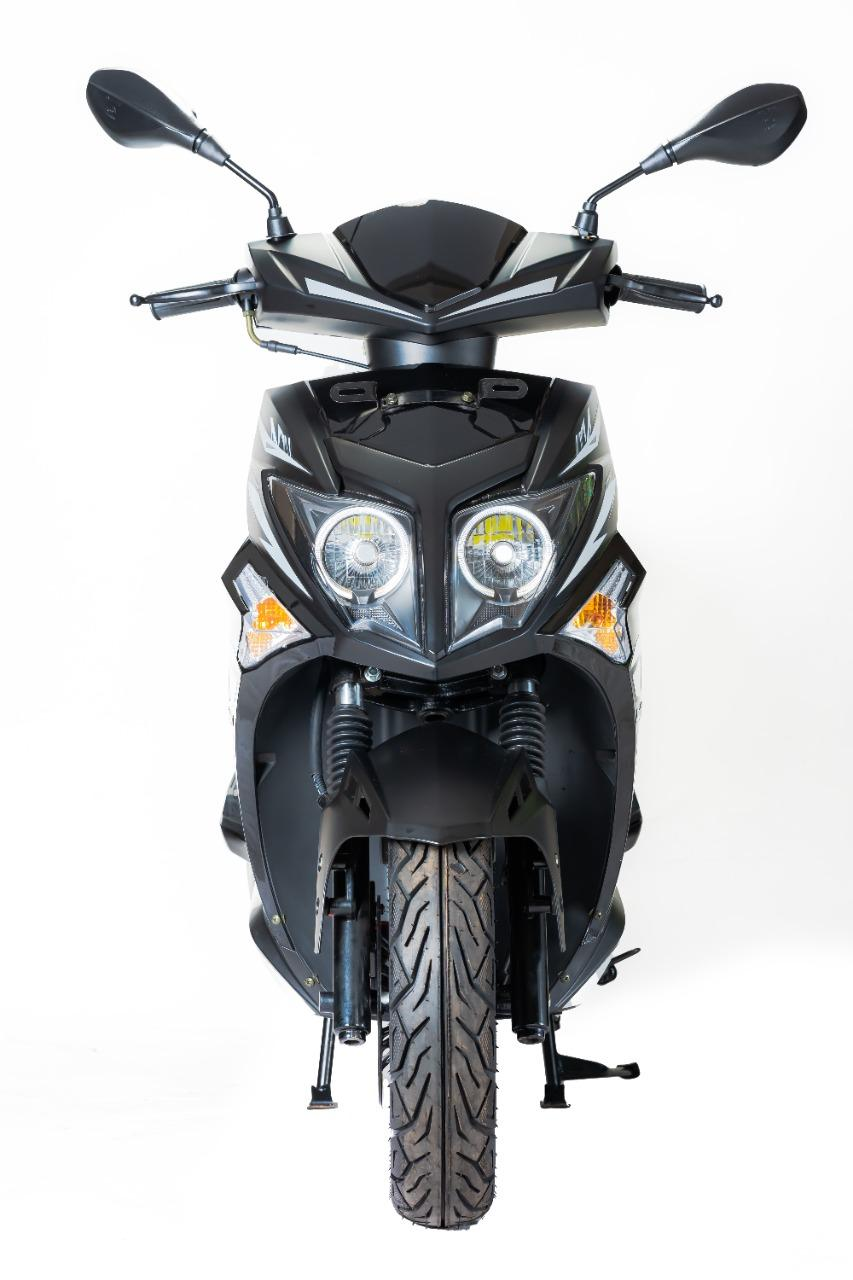motorbike: (86, 70, 808, 1229)
